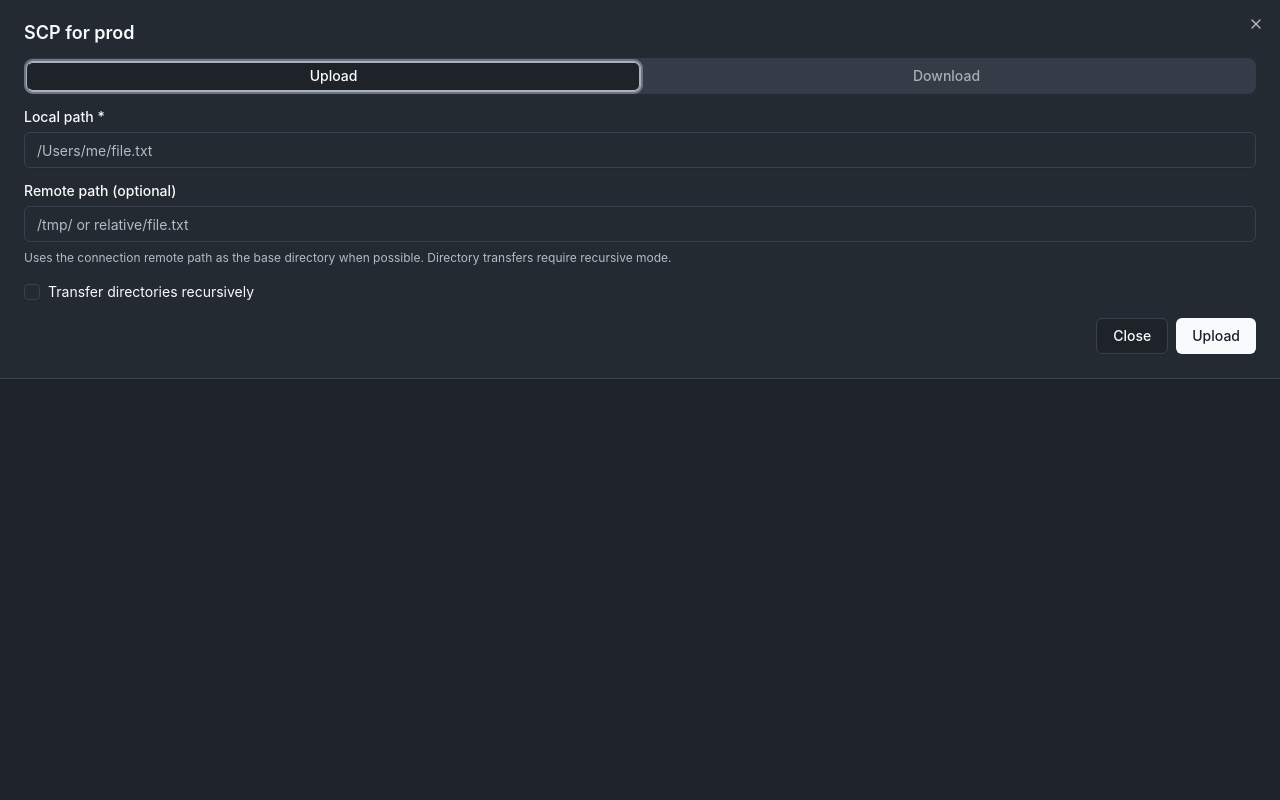
it: ScpDialog result scoping › hides the previous transfer's status once the mode changes
Type "/tmp/up.txt" into the field with test id "scp-local-path" at (640, 150), box [24,132,1256,168]
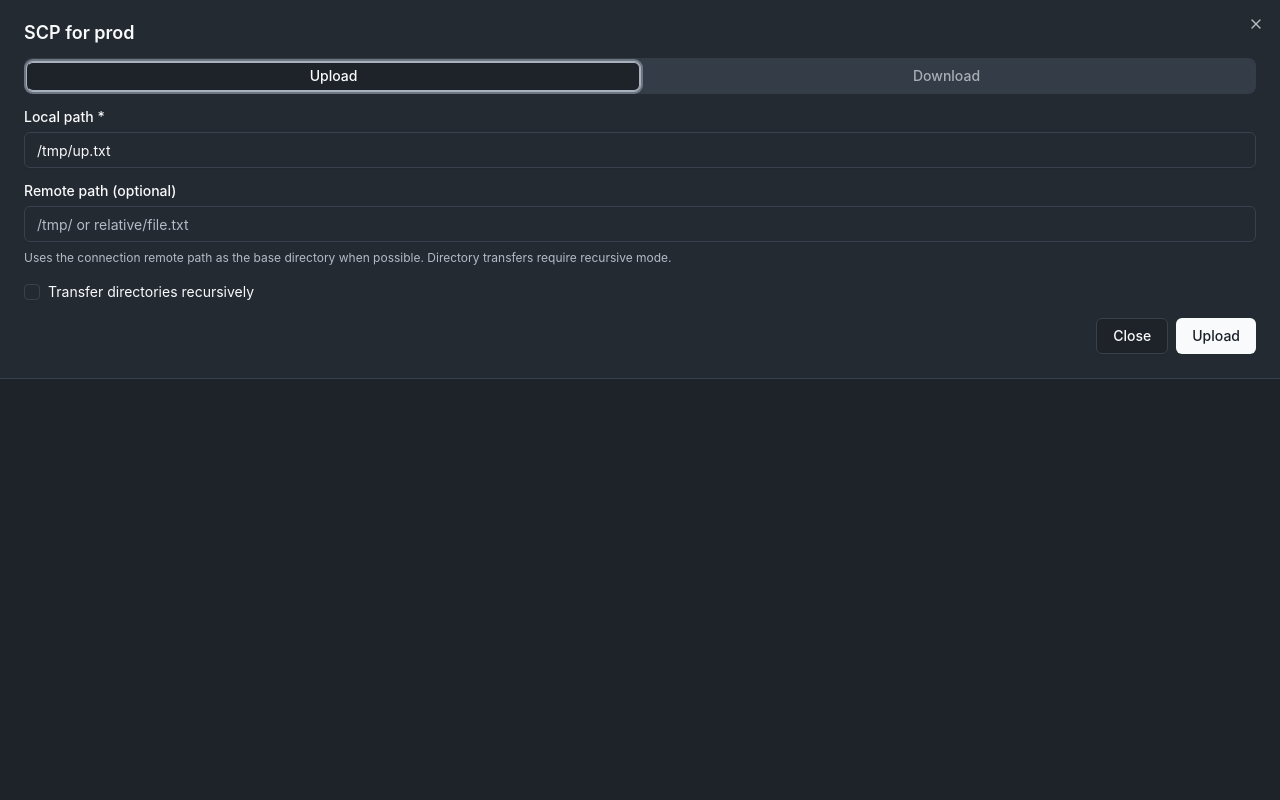
Click the button with test id "scp-upload" at (1216, 336), box [1176,318,1256,354]
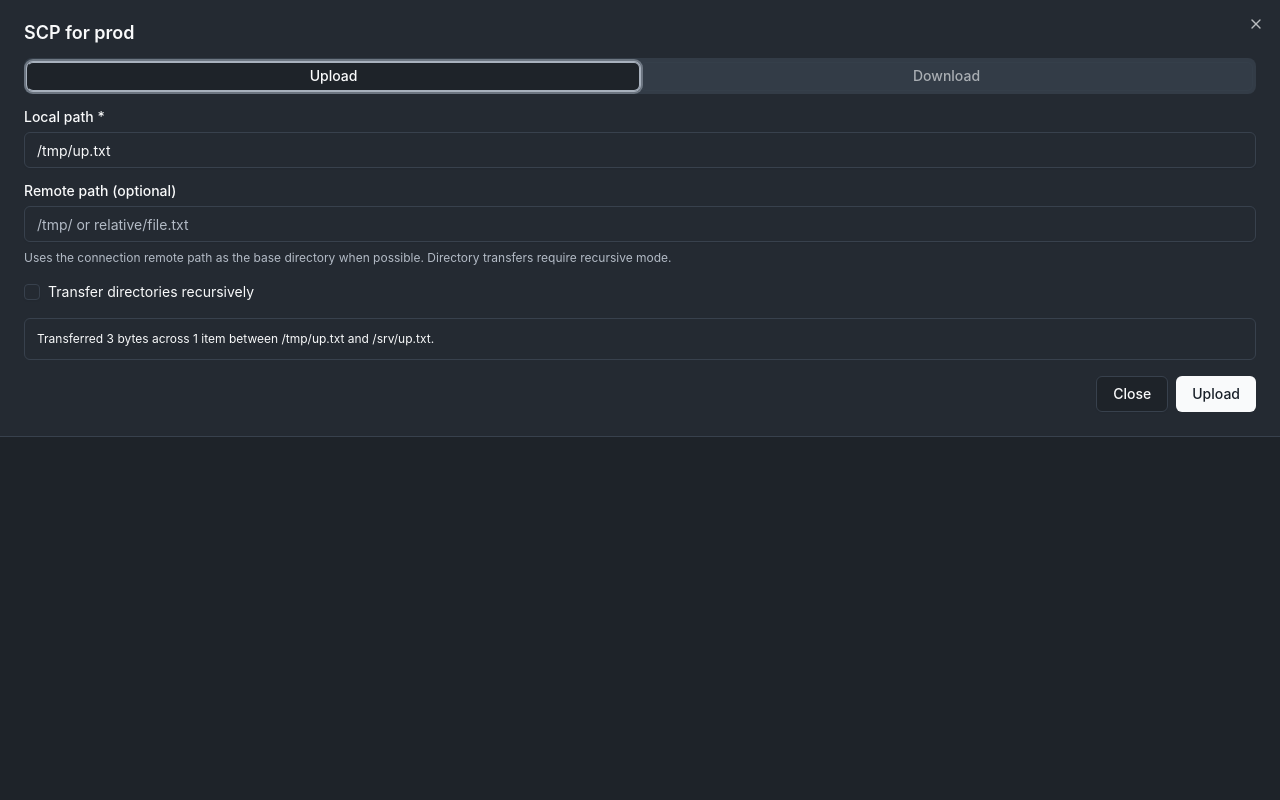
Expected: the text with test id "scp-status" is shown, [24,318,1256,360]
Click the tab with test id "scp-mode-download" at (946, 76), box [640,62,1253,90]
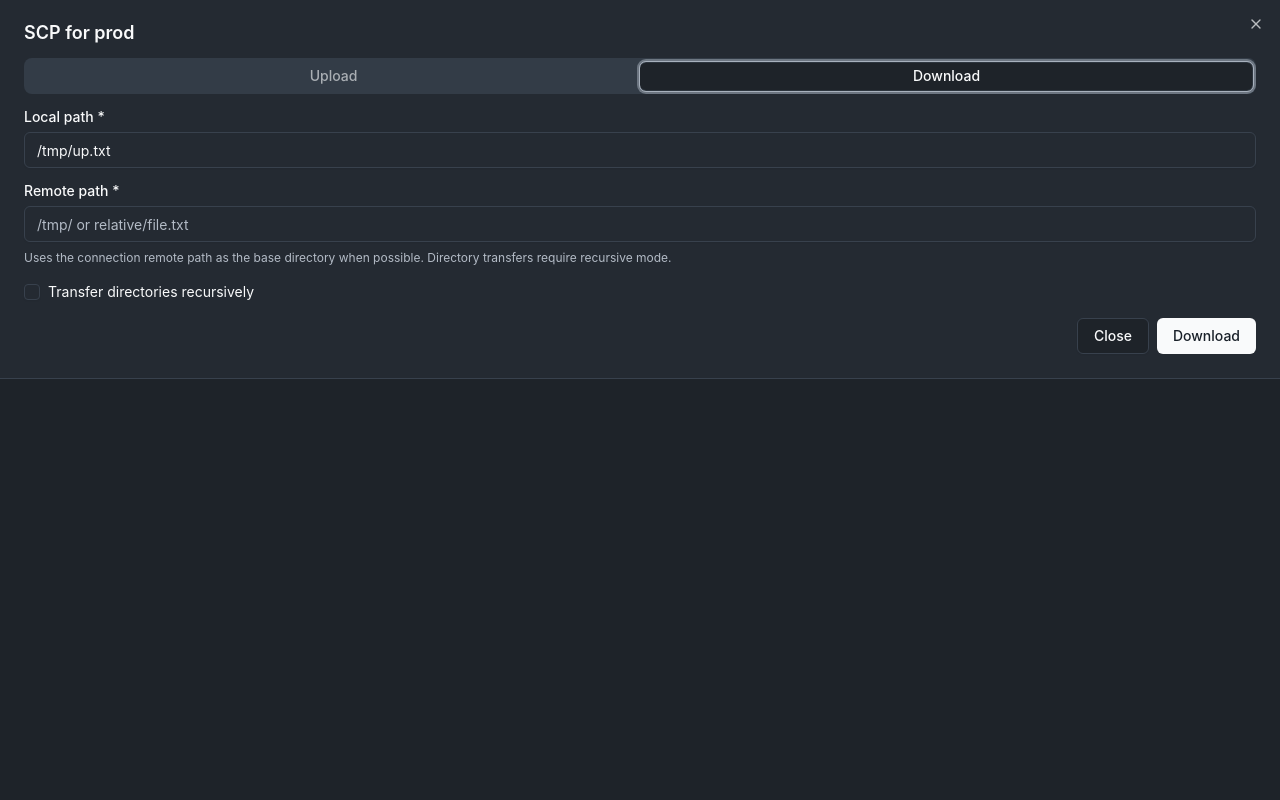
Expected: the text with test id "scp-status" is gone
